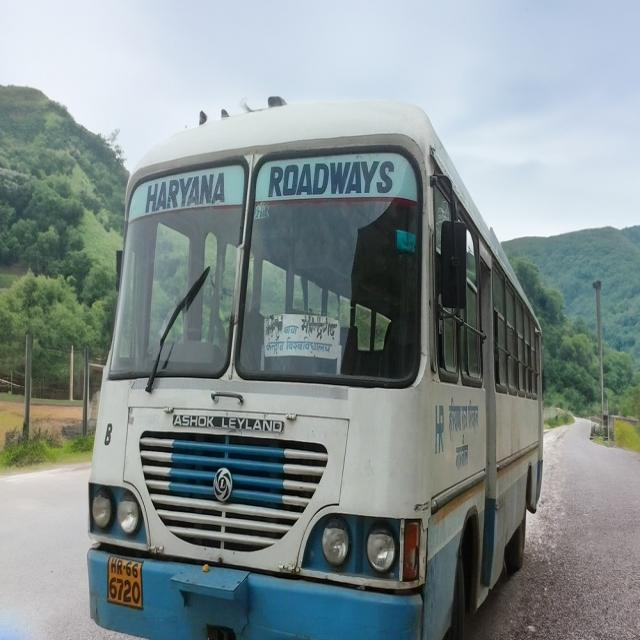bus: (89, 98, 542, 638)
